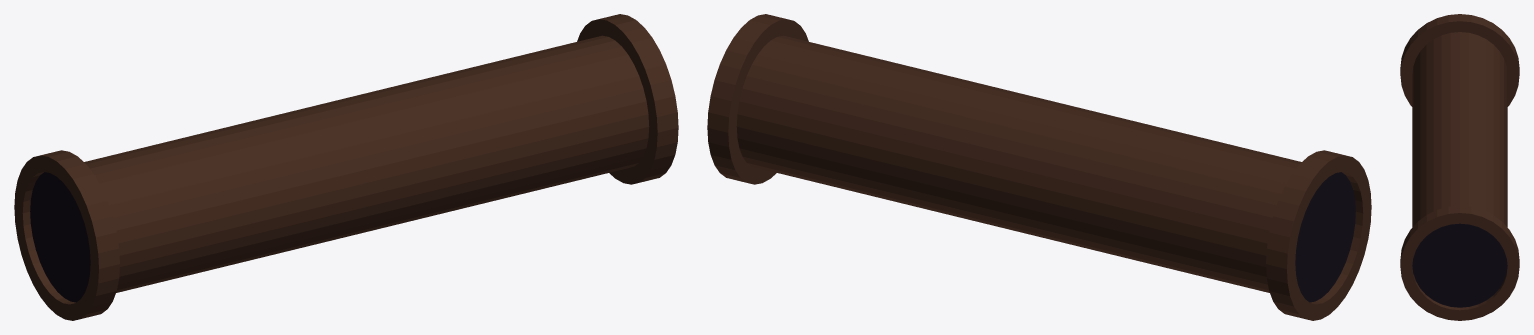
Rendered from obuje2 1.fbx.
3 renders of one model, left to right at view 1: azimuth 30°, elevation 25°; view 2: azimuth 150°, elevation 25°; view 3: azimuth 270°, elevation 25°, orthographic. The views are drawn at different scales.
Visible parts, largest first — view 1: 円柱.001; view 2: 円柱.001; view 3: 円柱.001.
Boxes of the visible parts, box(x1,y1,x2,y2) form: 円柱.001: box(14, 14, 678, 320); 円柱.001: box(707, 14, 1371, 320); 円柱.001: box(1400, 14, 1519, 320).
Size of the model in its own units: 7.9 by 2 by 2.
